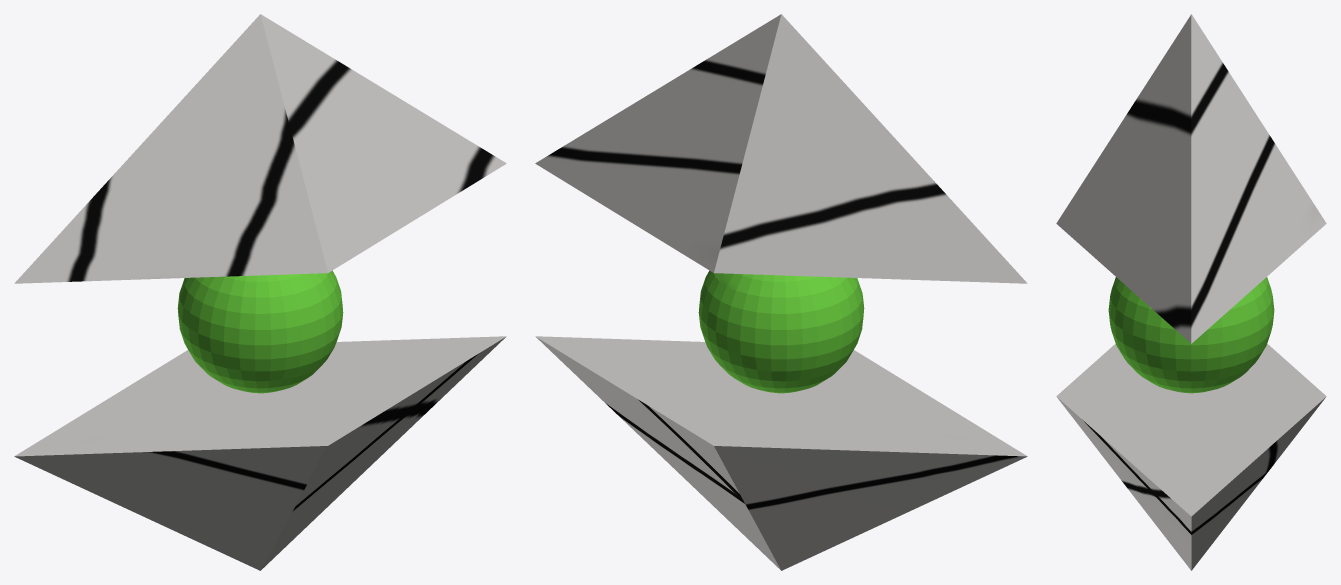
Rendered from body.obj.
The picture shows the model from 3 angles, left to right: view 1: azimuth 30°, elevation 25°; view 2: azimuth 150°, elevation 25°; view 3: azimuth 270°, elevation 25°; orthographic projection.
Parts seen in each view (by area): view 1: 体_立方体.005; view 2: 体_立方体.005; view 3: 体_立方体.005.
Boxes of the visible parts, x1=… form: 体_立方体.005: x1=14, y1=14, x2=506, y2=570; 体_立方体.005: x1=535, y1=14, x2=1027, y2=570; 体_立方体.005: x1=1056, y1=14, x2=1326, y2=570.
Bounding box in the file's own units: 1.84 × 1.99 × 0.8742.
1 material, 1 textured.
